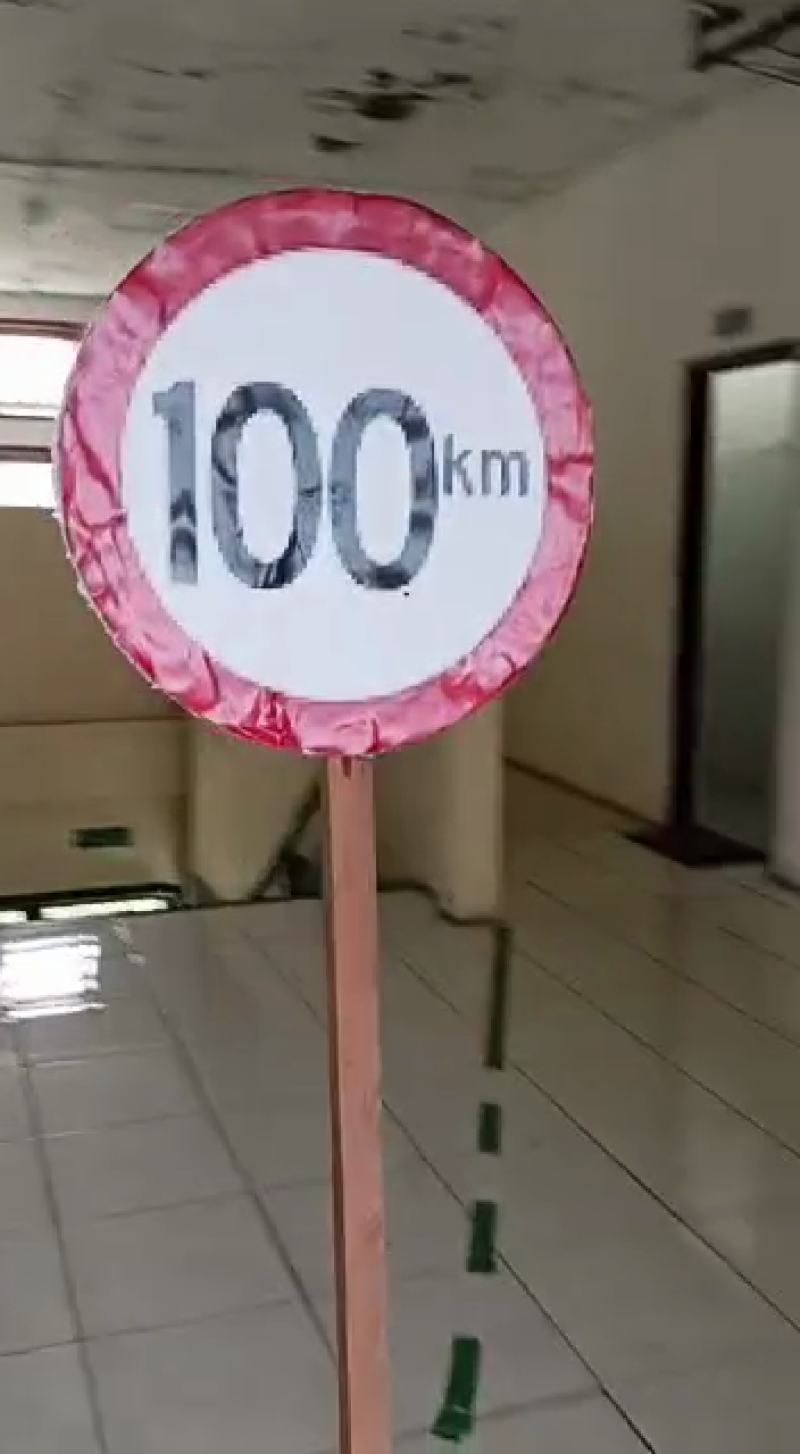batas maksimal 100kmperjam: (46, 158, 601, 766)
